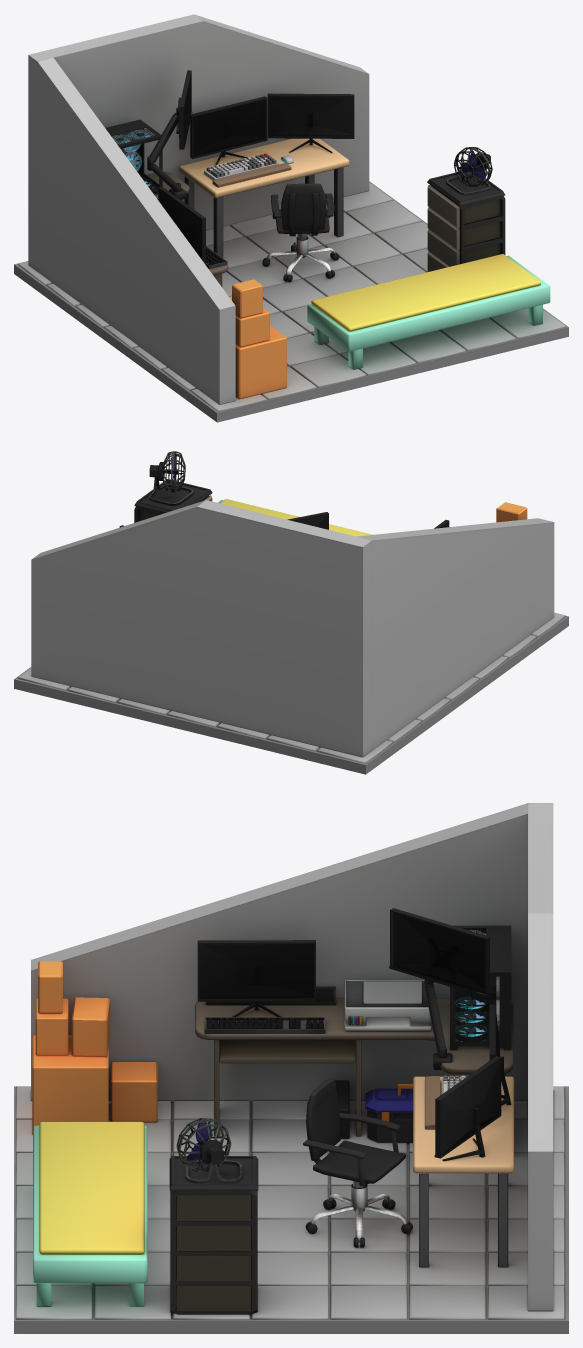
File: home_pc_test_4.glb
3 renders of one model, top to bottom at view 1: azimuth 30°, elevation 25°; view 2: azimuth 150°, elevation 25°; view 3: azimuth 270°, elevation 25°, orthographic. The views are drawn at different scales.
Parts seen in each view (by area): view 1: main, fan_head; view 2: main, fan_head; view 3: main, fan_head.
Part boxes in pixels (left/top/right/bottom): main: left=14, top=14, right=568, bottom=422; fan_head: left=454, top=147, right=492, bottom=186; main: left=14, top=477, right=568, bottom=774; fan_head: left=149, top=451, right=185, bottom=492; main: left=14, top=803, right=568, bottom=1333; fan_head: left=176, top=1118, right=231, bottom=1172.
Size of the model in its own units: 14.54 by 8.73 by 14.54.
1 material, 1 textured.
